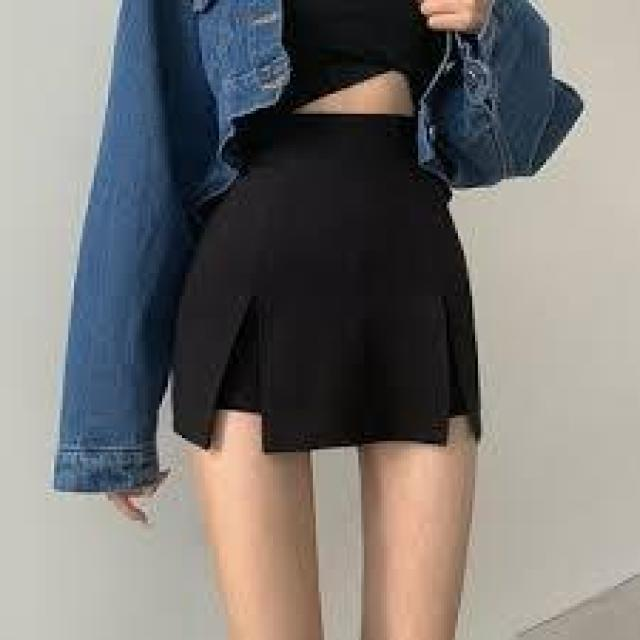skirt: (162, 111, 489, 449)
